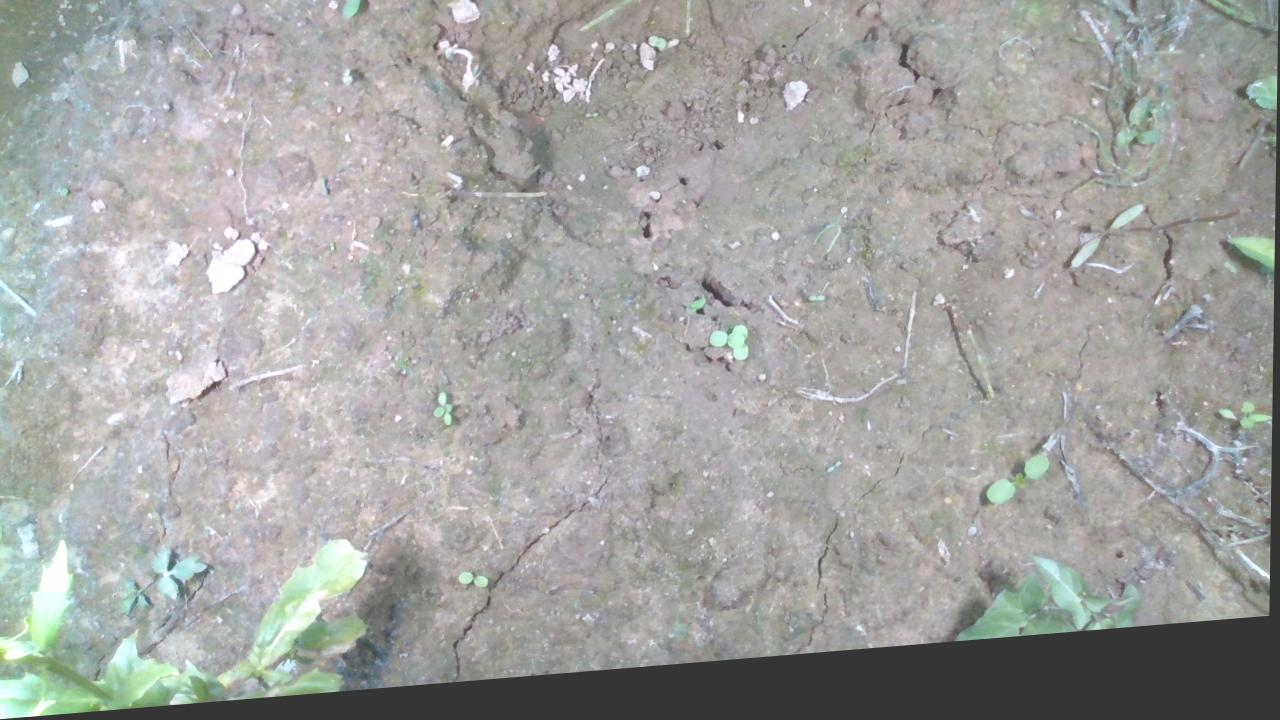weed: (1068, 222, 1148, 287), (986, 469, 1052, 522), (452, 569, 500, 602), (430, 396, 463, 442), (809, 300, 844, 321)
